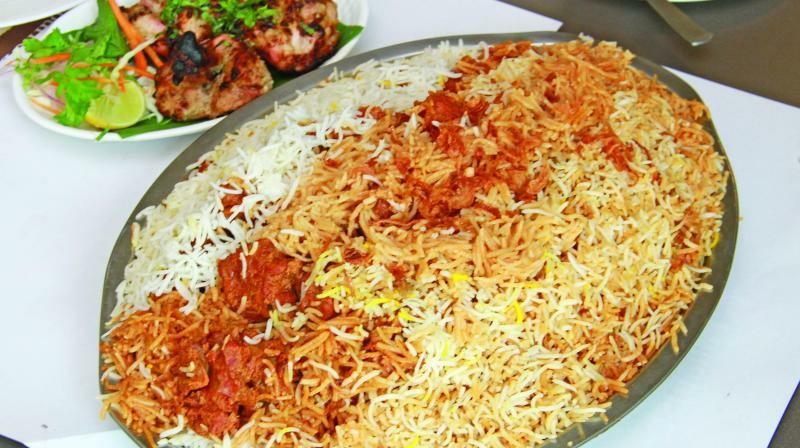Biryani: (100, 37, 730, 448)
